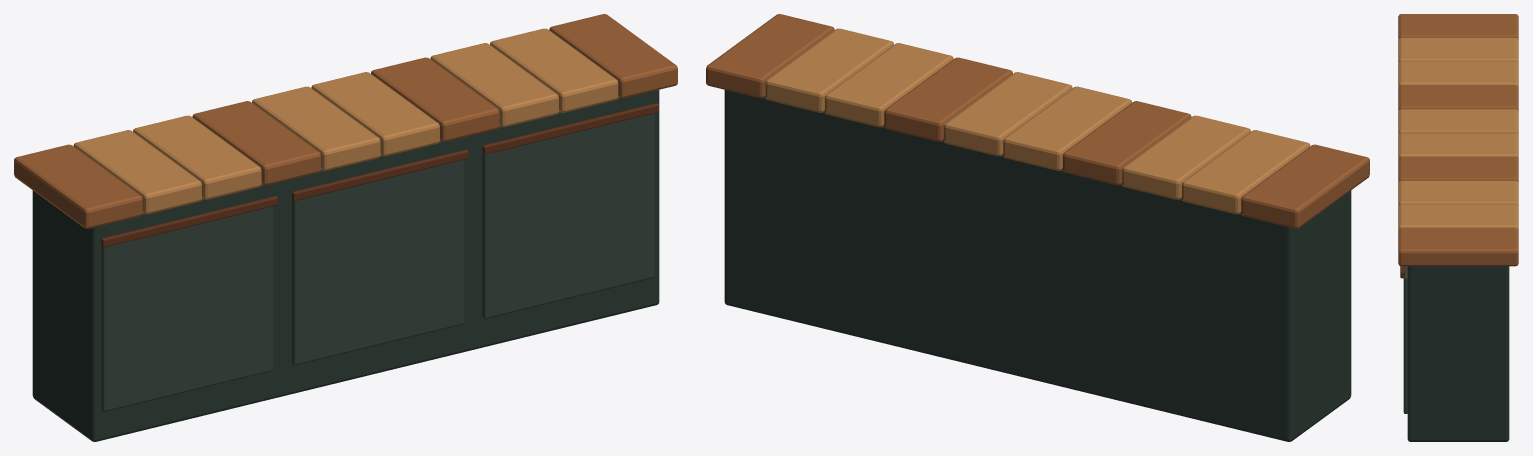
File: serving_counter.fbx
The picture shows the model from 3 angles, left to right: view 1: azimuth 30°, elevation 25°; view 2: azimuth 150°, elevation 25°; view 3: azimuth 270°, elevation 25°; orthographic projection. The views are drawn at different scales.
Parts seen in each view (by area): view 1: serving_counter; view 2: serving_counter; view 3: serving_counter.
Part boxes in pixels (x1,y1,x2,y2): serving_counter: [14, 14, 677, 441]; serving_counter: [706, 14, 1369, 441]; serving_counter: [1398, 14, 1518, 441].
Bounding box in the file's own units: 2.71 × 1.05 × 0.58.
